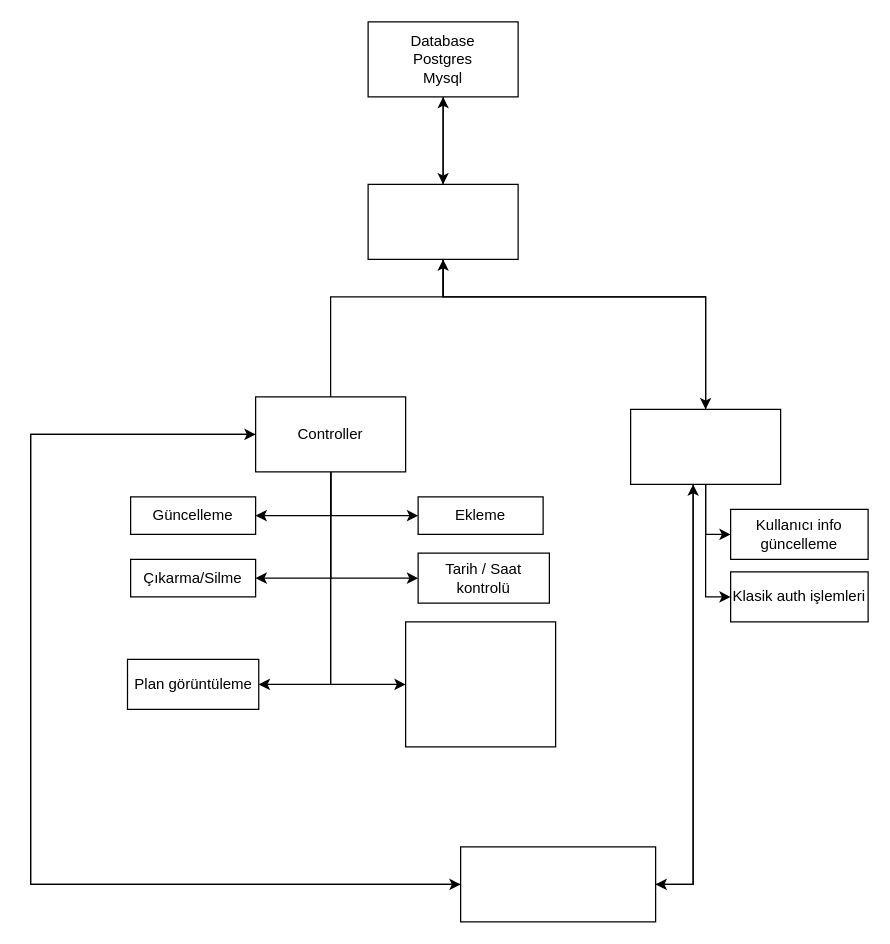
Some shapes in this 890 by 944 pixel diagram are drawn without their labels. Each missing label, with the centre of its shape:
"Auth" belongs at (x=705, y=446).
"Model" belongs at (x=442, y=221).
"Plan{ iptal bitti yapılıyor} state" belongs at (x=480, y=684).
"POST / GET USER INTERFACE" belongs at (x=557, y=884).
